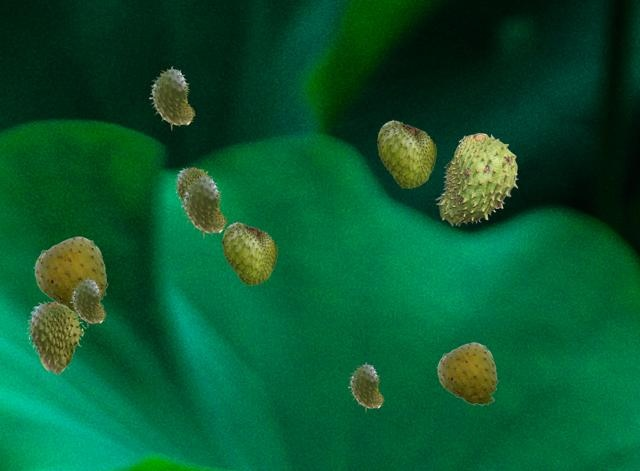guyabano: (435, 133, 517, 225), (33, 236, 107, 312), (26, 301, 85, 374), (377, 119, 435, 187), (436, 342, 497, 405), (222, 221, 276, 284), (181, 174, 226, 237), (149, 66, 194, 129), (70, 277, 105, 326), (348, 362, 383, 411), (174, 167, 212, 209)
